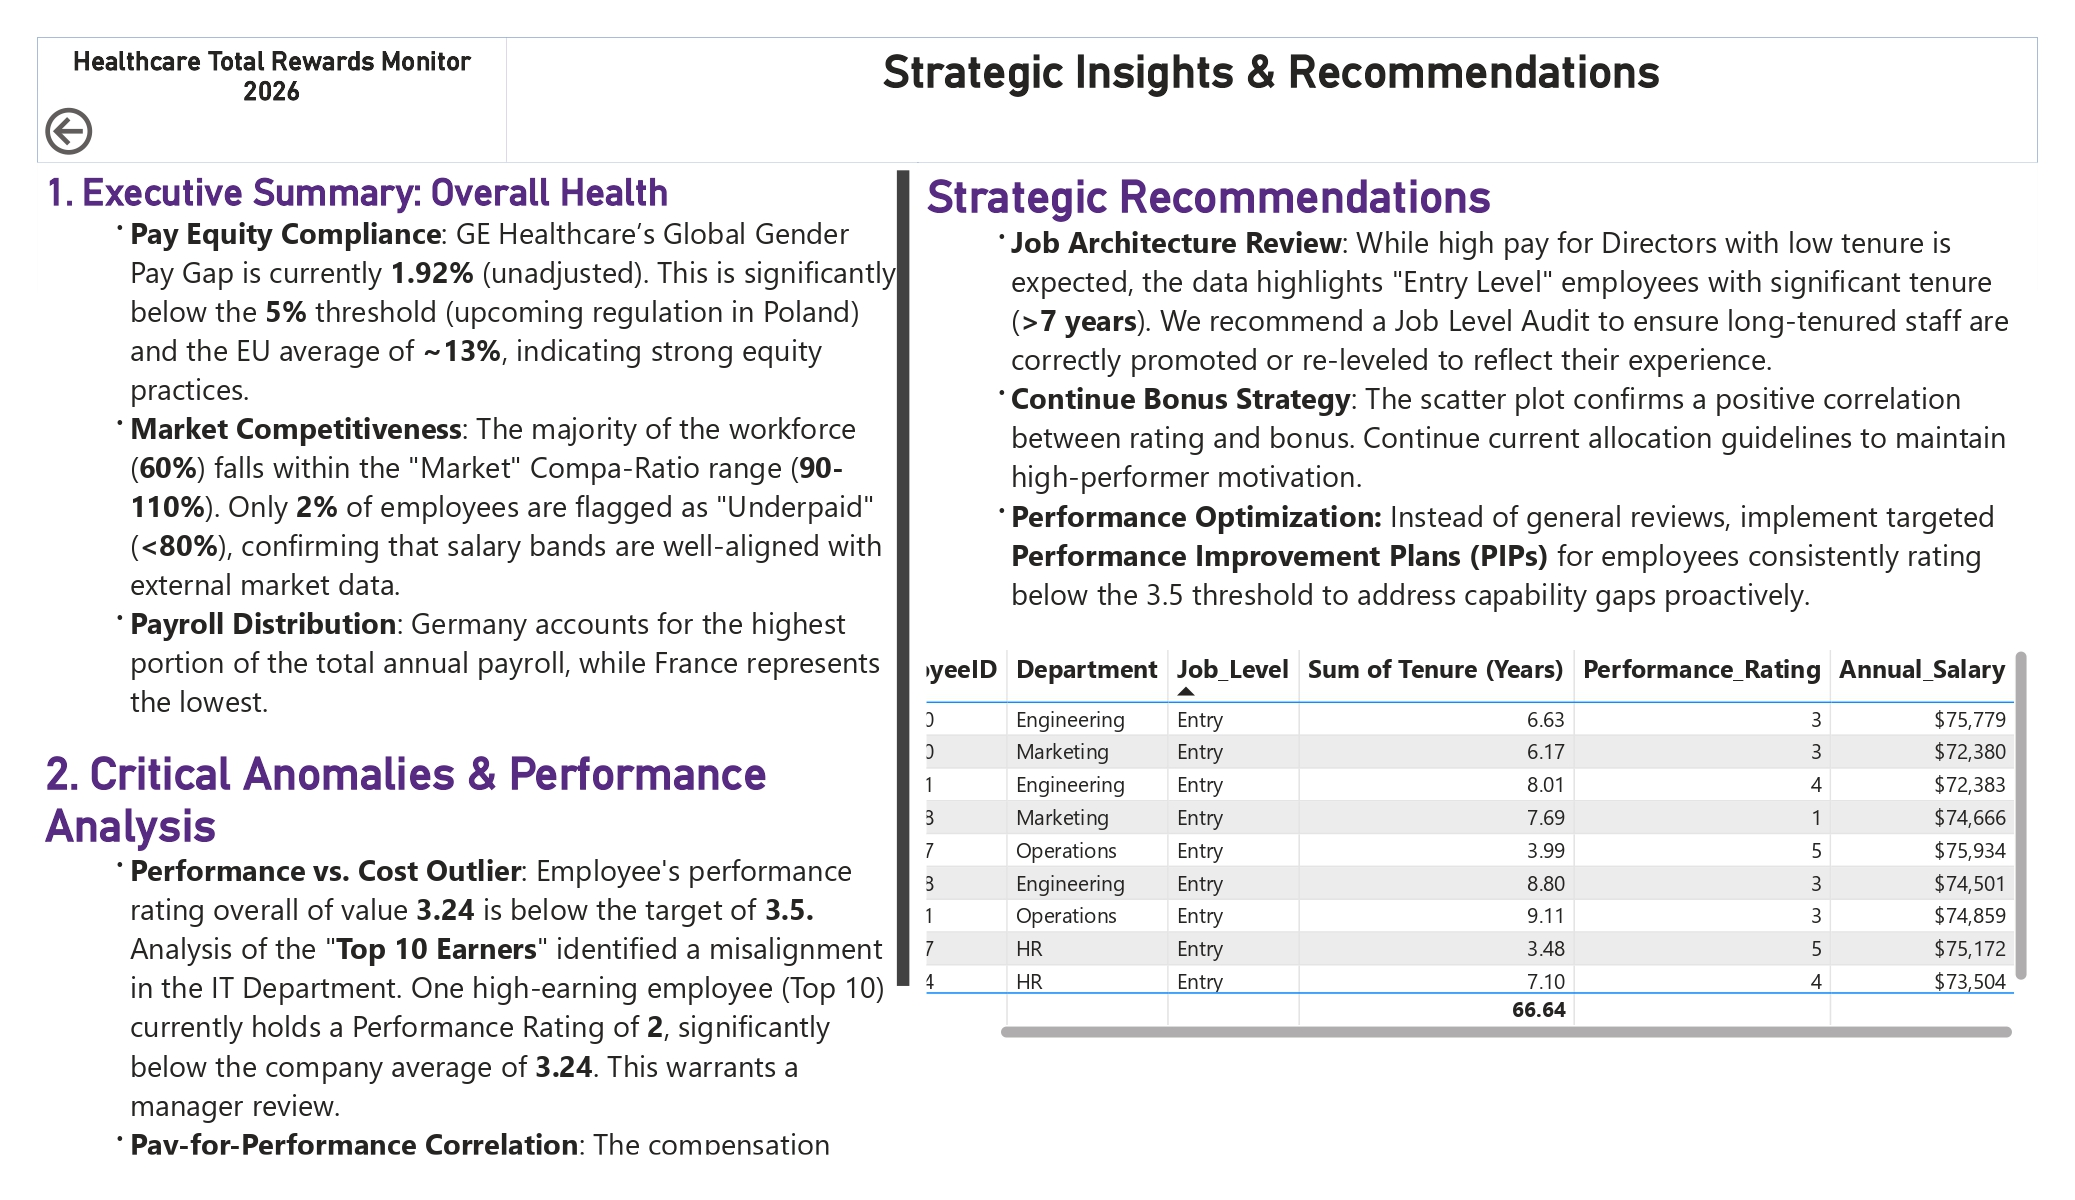

Layout of this report page (visuals, bound fields, positions):
{"tool":"powerbi","page":{"name":"Insight","canvas":[1280,720],"ordinal":2},"visuals":[{"type":"shape","box":[0,0,1280,80],"z":0},{"type":"textbox","box":[0,0,300,80],"z":1000},{"type":"textbox","box":[300,0,980,80],"z":2000},{"type":"textbox","box":[0,80,563.3,640],"z":3000},{"type":"actionButton","box":[0,40,100,40],"z":4000},{"type":"textbox","box":[564,79.9,715.8,341.9],"z":6000},{"type":"tableEx","fields":{"Values":["GE_TotalRewards_Mock_Data.EmployeeID","GE_TotalRewards_Mock_Data.Department","GE_TotalRewards_Mock_Data.Job_Level","Sum(GE_TotalRewards_Mock_Data.Tenure (Years))","GE_TotalRewards_Mock_Data.Performance_Rating","GE_TotalRewards_Mock_Data.Annual_Salary"]},"box":[563.2,387.4,716.2,258.9],"z":6001}]}

Visuals, with their boxes on the page's 1280x720 design canvas (x1, y1, x2, y2). These are canvas units, not pixel positions in the 2075x1200 screenshot, which may show the page scaled, cropped or inside an application window:
shape: 0/0/1280/80
textbox: 0/0/300/80
textbox: 300/0/1280/80
textbox: 0/80/563/720
actionButton: 0/40/100/80
textbox: 564/80/1280/422
tableEx - GE_TotalRewards_Mock_Data.EmployeeID x GE_TotalRewards_Mock_Data.Department: 563/387/1279/646
